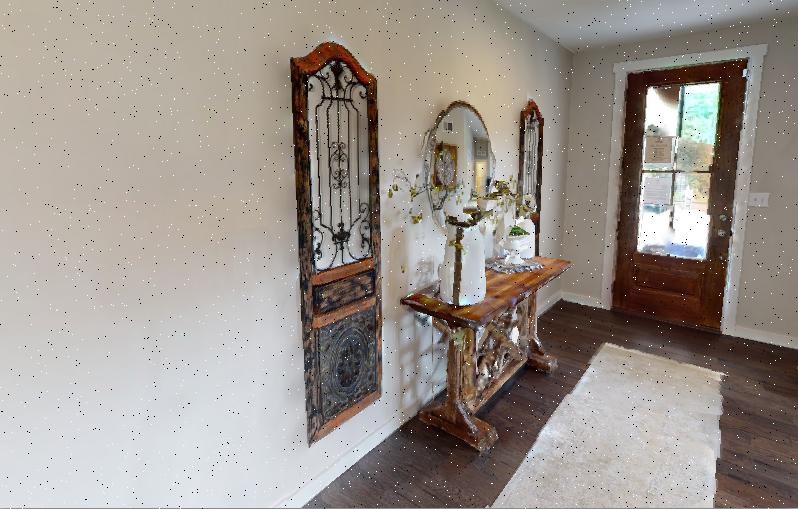door: (603, 48, 759, 353)
table: (386, 223, 582, 473)
